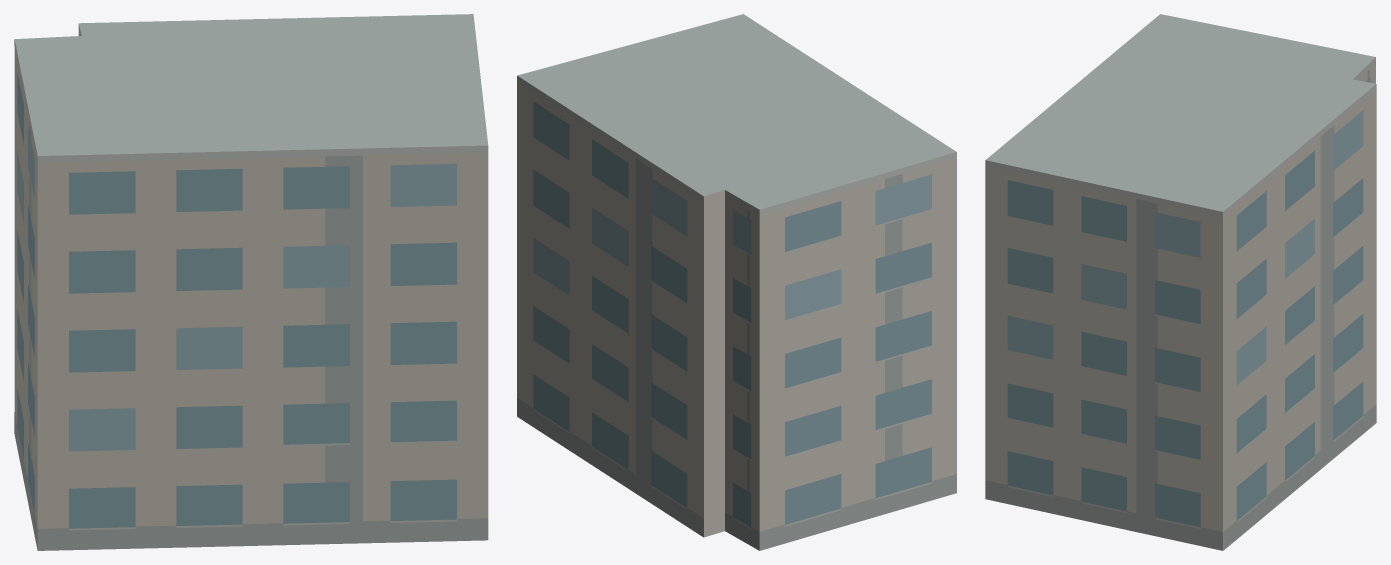
File: survey-upis-33025533.glb
3 renders of one model, left to right at view 1: azimuth 30°, elevation 25°; view 2: azimuth 150°, elevation 25°; view 3: azimuth 270°, elevation 25°, orthographic. The views are drawn at different scales.
Parts seen in each view (by area): view 1: survey-upis-33025533.tmp; view 2: survey-upis-33025533.tmp; view 3: survey-upis-33025533.tmp.
Boxes of the visible parts, left/top/right/bottom form: survey-upis-33025533.tmp: left=14, top=14, right=488, bottom=550; survey-upis-33025533.tmp: left=517, top=14, right=956, bottom=550; survey-upis-33025533.tmp: left=985, top=14, right=1376, bottom=550.
Size of the model in its own units: 17.41 by 13.9 by 14.54.
